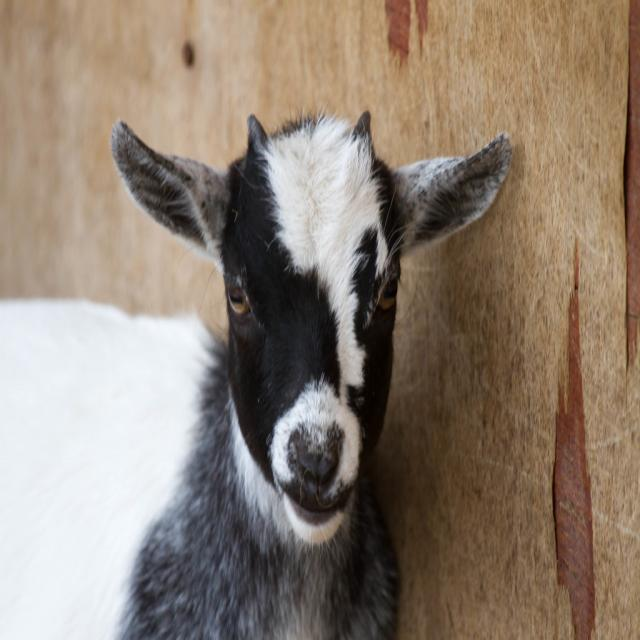Goat: (0, 110, 512, 639)
